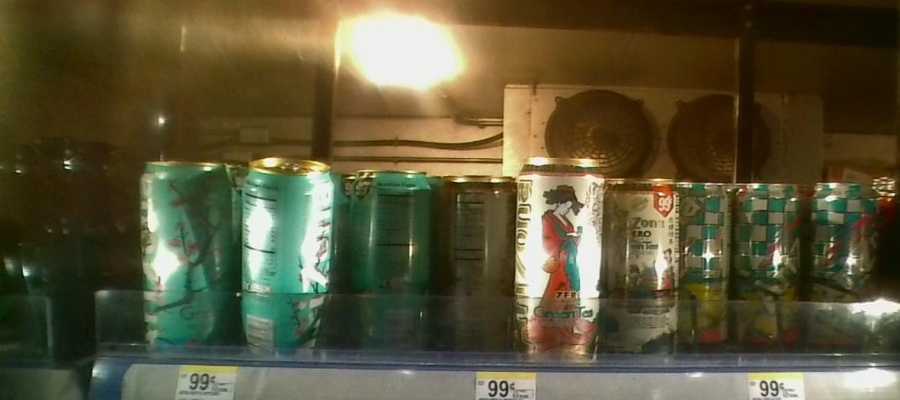bottle: (517, 153, 607, 375), (137, 148, 236, 349), (240, 150, 333, 360), (345, 153, 433, 356), (806, 172, 879, 372), (735, 169, 806, 373), (608, 170, 681, 368), (443, 163, 515, 360), (681, 171, 732, 367)
